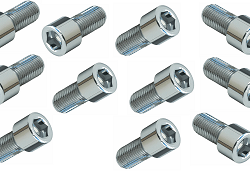socket screw: (112, 2, 184, 61), (50, 59, 121, 118), (126, 58, 197, 117), (114, 112, 185, 171), (1, 109, 71, 168), (38, 1, 109, 59)
